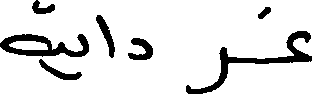ا: (94, 13, 114, 59)
ة: (0, 0, 64, 58)
د: (127, 35, 152, 59)
ر: (182, 45, 228, 92)
غ: (258, 6, 310, 63)
ي: (68, 31, 88, 80)
